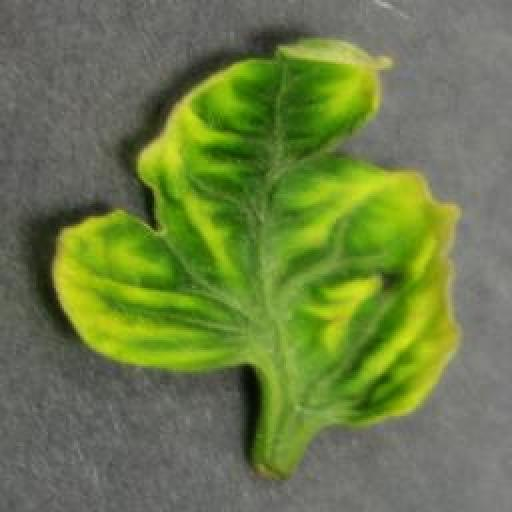disease_tomato: (50, 34, 464, 430)
